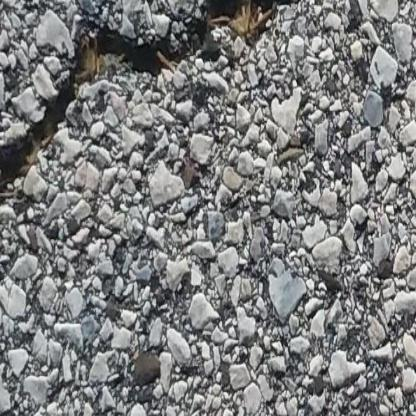Cracks: (0, 0, 370, 235)
